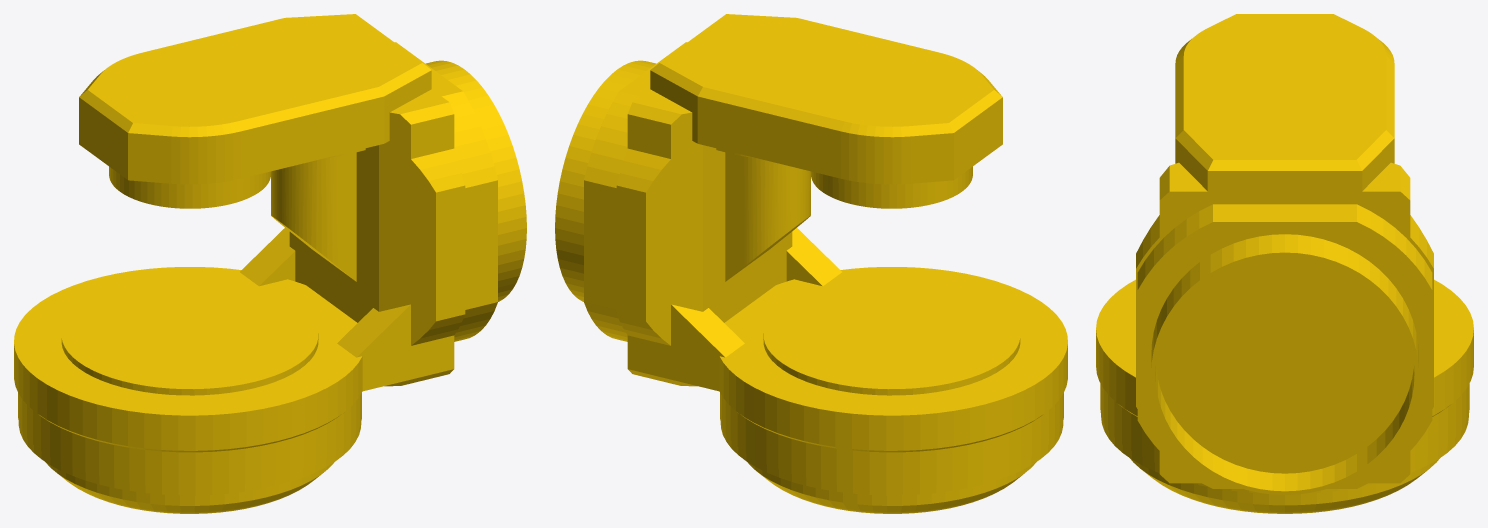
The picture shows the model from 3 angles, left to right: view 1: azimuth 30°, elevation 25°; view 2: azimuth 150°, elevation 25°; view 3: azimuth 270°, elevation 25°; orthographic projection. The views are drawn at different scales.
Parts seen in each view (by area): view 1: Node_0x7f98ee6ac800; view 2: Node_0x7f98ee6ac800; view 3: Node_0x7f98ee6ac800.
Part boxes in pixels (box(x1,y1,x2,y2)): Node_0x7f98ee6ac800: box(14, 14, 526, 513); Node_0x7f98ee6ac800: box(555, 14, 1067, 513); Node_0x7f98ee6ac800: box(1096, 14, 1473, 513).
Bounding box in the file's own units: 0.3165 × 0.265 × 0.226.
